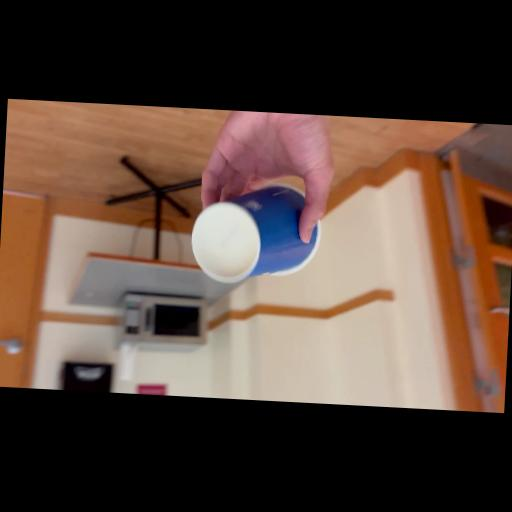lp_paper_cup: (184, 175, 336, 291)
